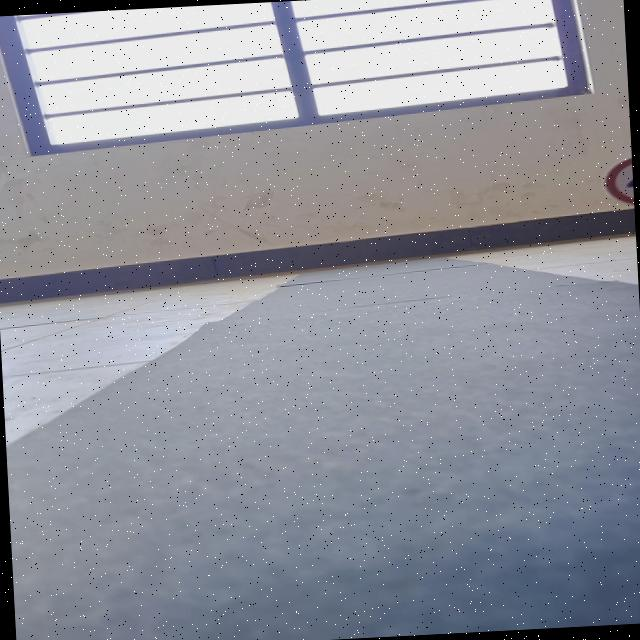Speed40: (604, 154, 634, 210)
